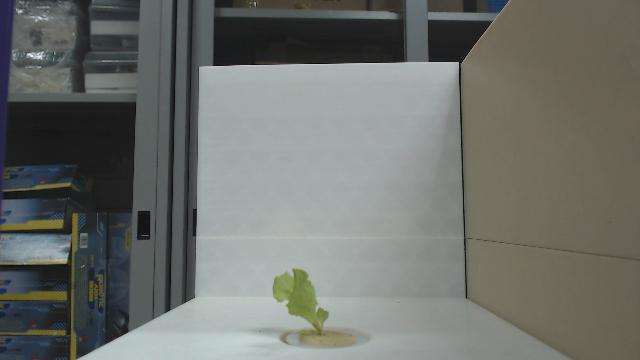Seedling Stage: (270, 266, 330, 336)
